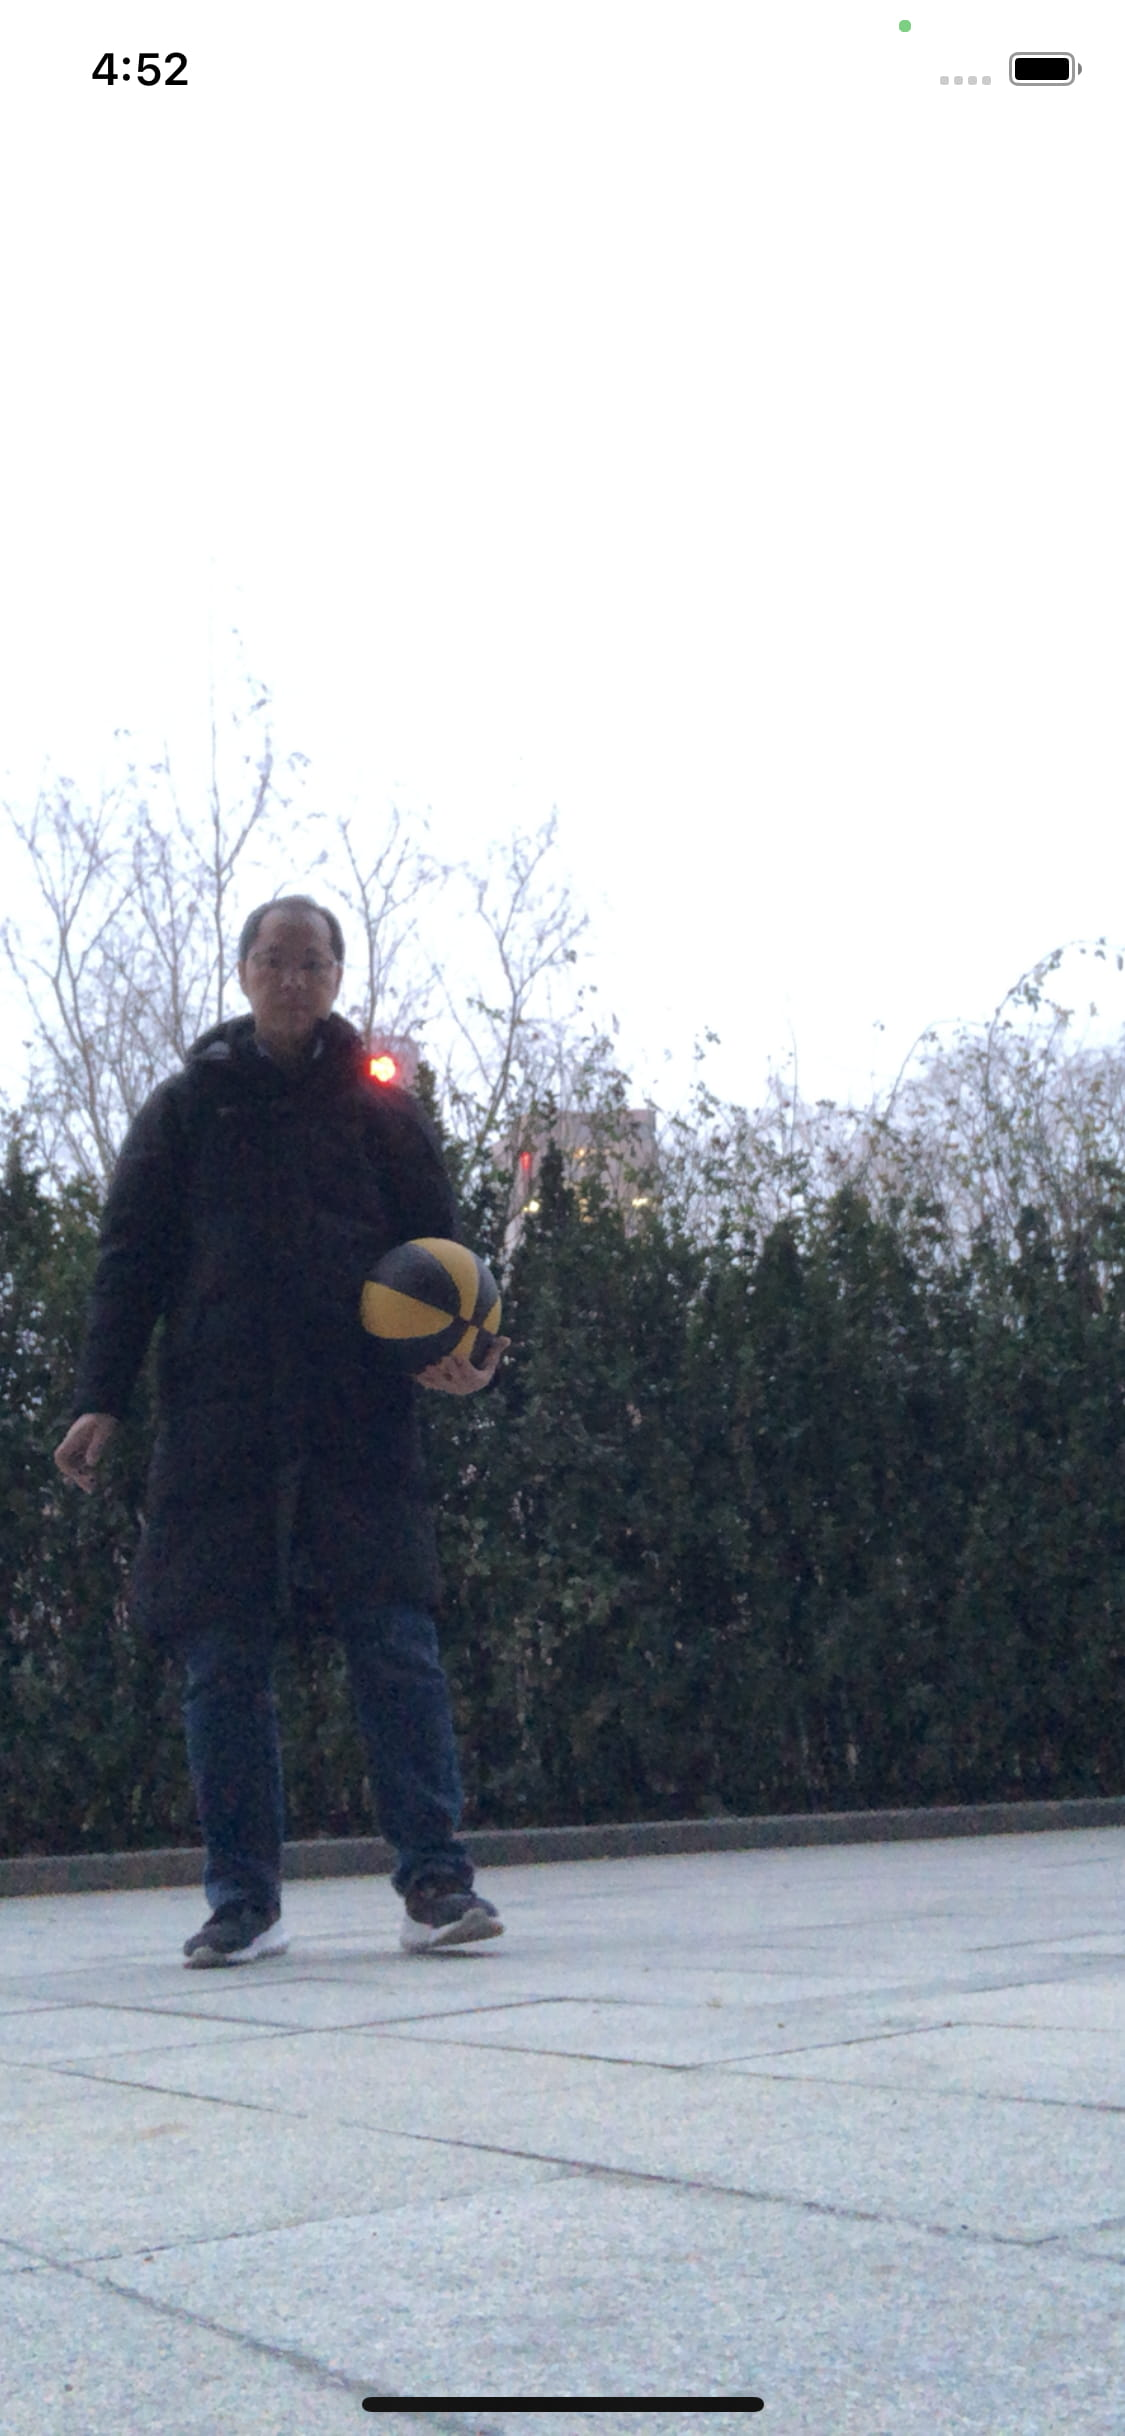ball: (362, 1241, 507, 1386)
